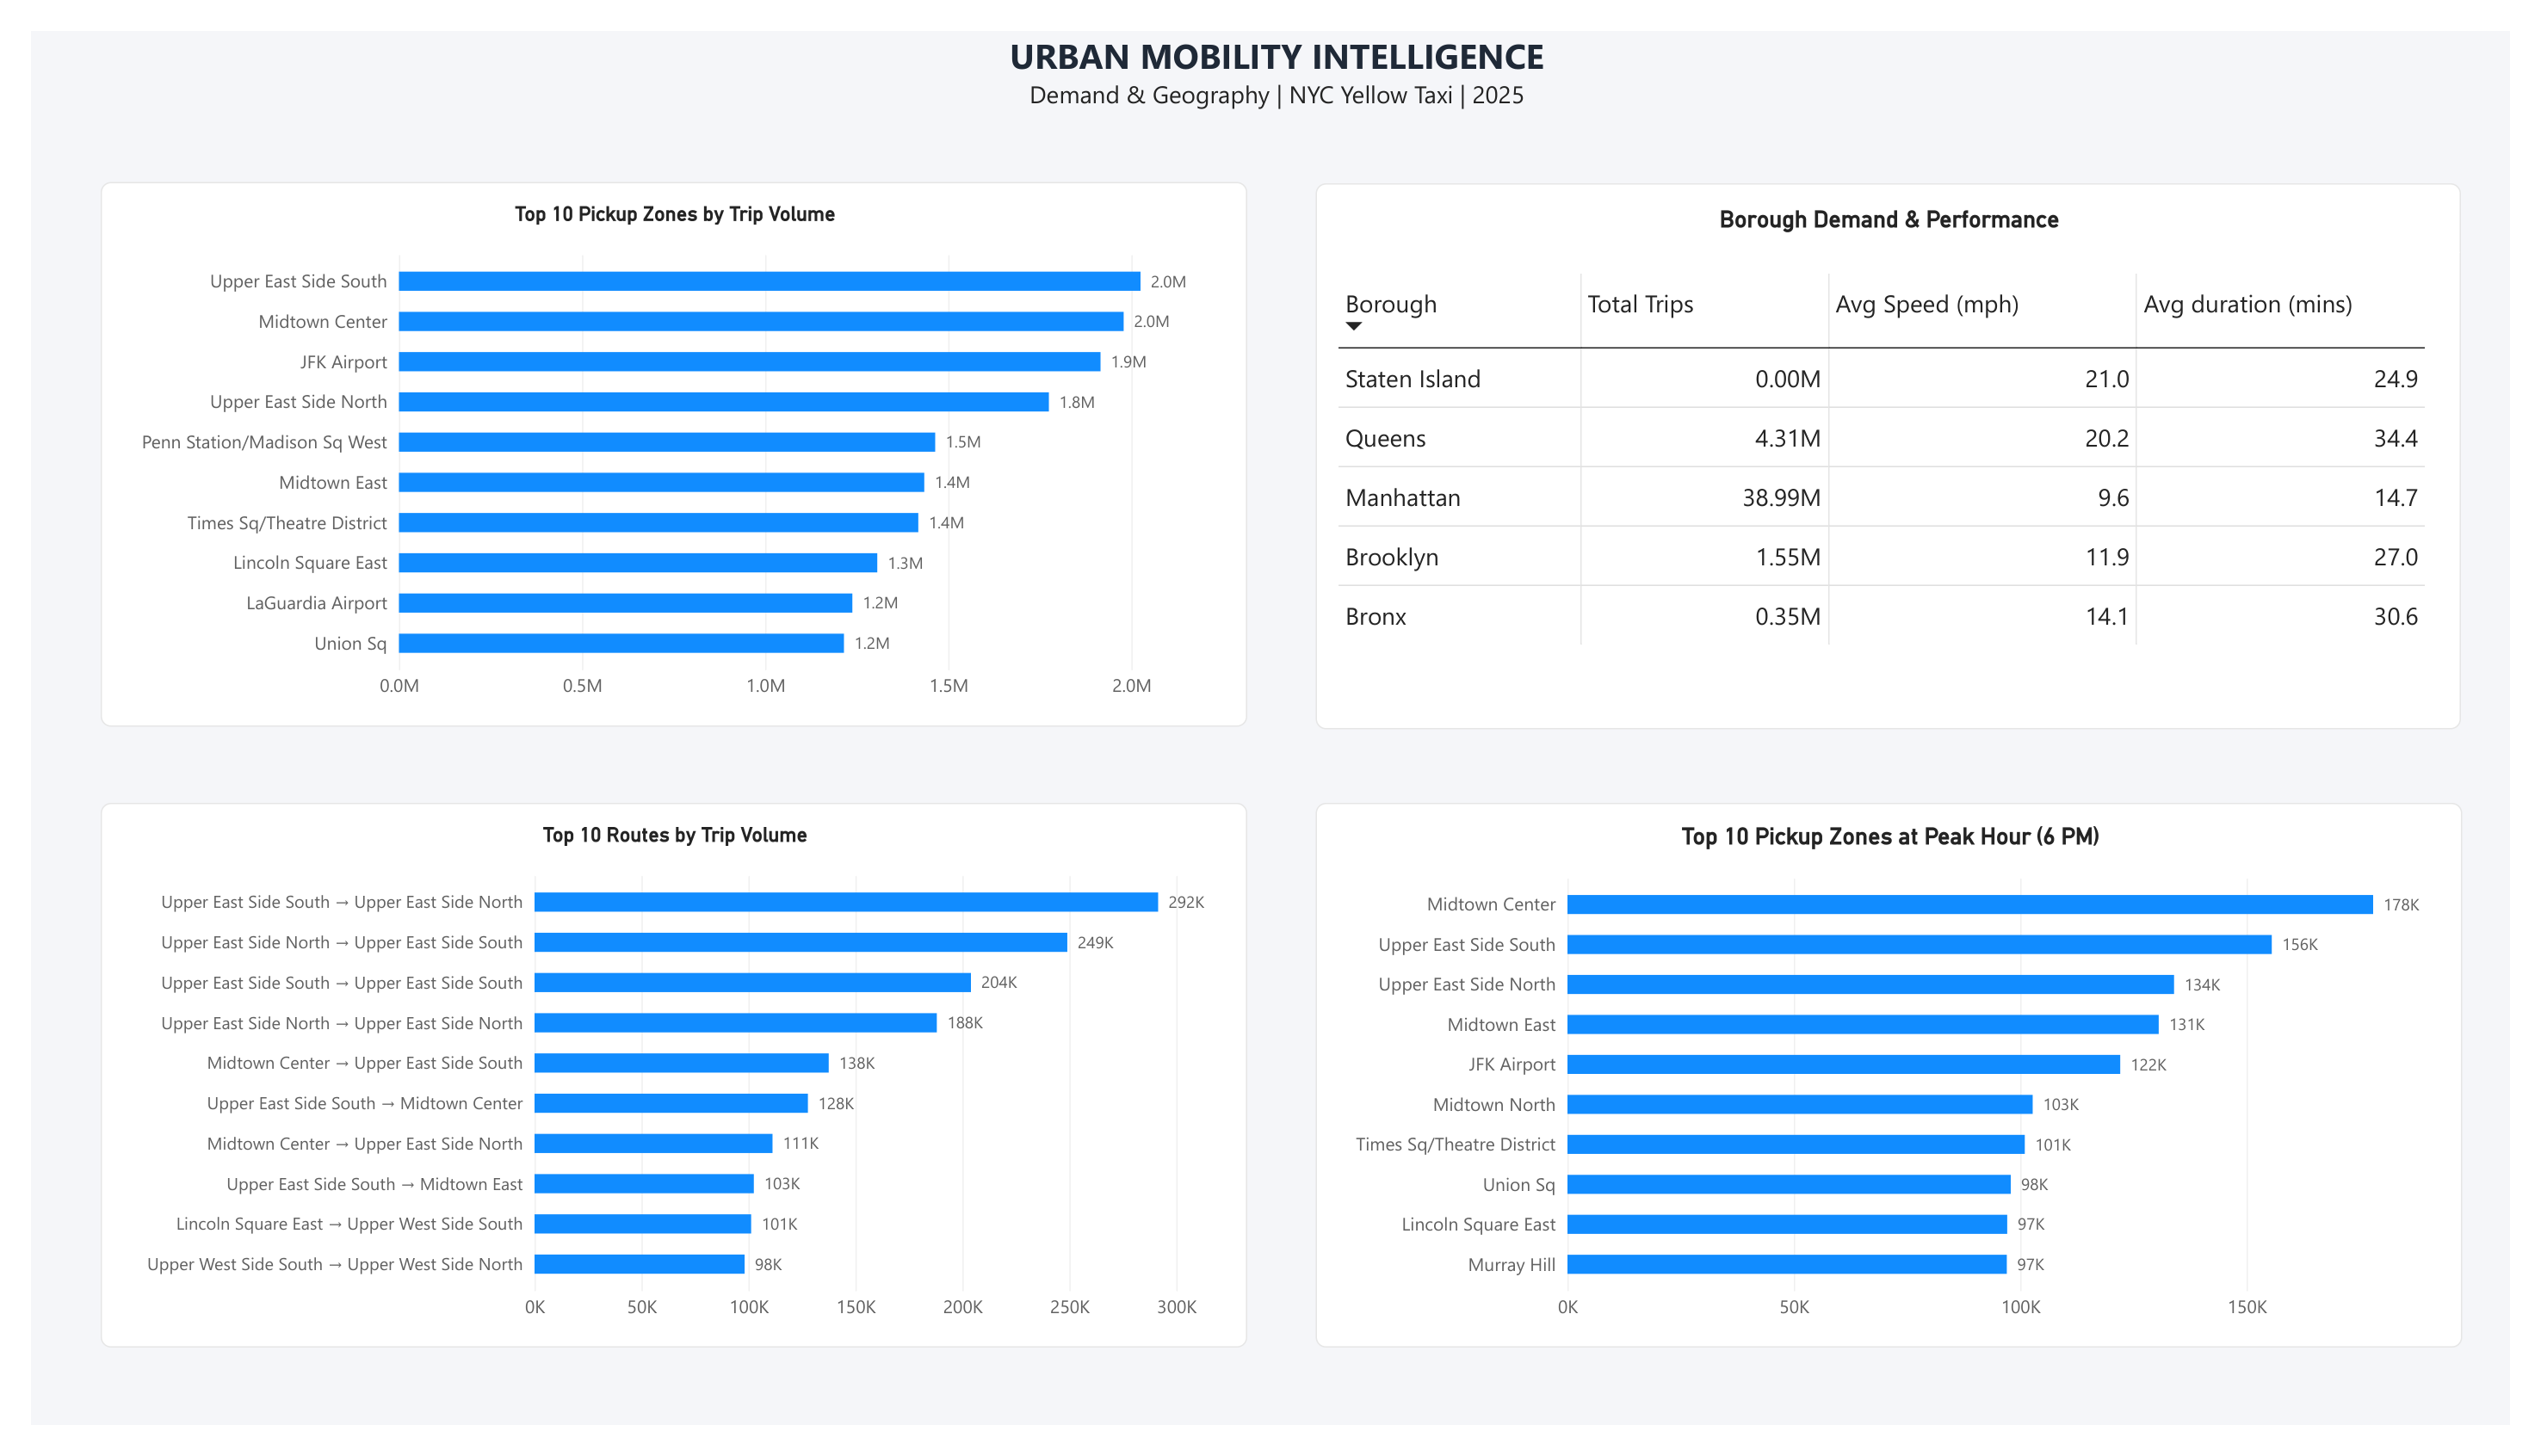

The page's visual inventory and layout, read from the dashboard file:
{"tool":"powerbi","page":{"name":"Demand & Geography","canvas":[1920,1080],"ordinal":1},"visuals":[{"type":"textbox","box":[9.6,0,1910.4,85.4],"z":0},{"type":"clusteredBarChart","title":"Top 10 Pickup Zones by Trip Volume","fields":{"Category":["pbi_zones.zone"],"Y":["Sum(pbi_zones.total_trips)"]},"box":[53.7,117.1,888.1,422.1],"z":1000},{"type":"clusteredBarChart","title":"Top 10 Routes by Trip Volume","fields":{"Category":["pbi_routes.Route"],"Y":["Sum(pbi_routes.total_trips)"]},"box":[53.7,597.8,888,422],"z":3000},{"type":"clusteredBarChart","title":"Top 10 Pickup Zones at Peak Hour (6 PM)","fields":{"Category":["pbi_peak_hour_zones.zone"],"Y":["Sum(pbi_peak_hour_zones.total_trips)"]},"box":[995.4,597.8,888,422],"z":4000},{"type":"tableEx","title":"Borough Demand & Performance","fields":{"Values":["pbi_borough.borough","pbi_borough.total_trips","pbi_borough.avg_speed_mph","pbi_borough.avg_duration_minutes"]},"box":[994.9,117.9,887.2,423.1],"z":4001}]}

Visuals, with their boxes in screenshot pixels (x1, y1, x2, y2), scaled from the page's 1920x1080 canvas onto the 2541x1456 screenshot:
textbox: x1=13, y1=0, x2=2540, y2=115
"Top 10 Pickup Zones by Trip Volume" clusteredBarChart: x1=71, y1=157, x2=1246, y2=727
"Top 10 Routes by Trip Volume" clusteredBarChart: x1=71, y1=806, x2=1246, y2=1375
"Top 10 Pickup Zones at Peak Hour (6 PM)" clusteredBarChart: x1=1317, y1=806, x2=2493, y2=1375
"Borough Demand & Performance" tableEx: x1=1317, y1=159, x2=2491, y2=730
